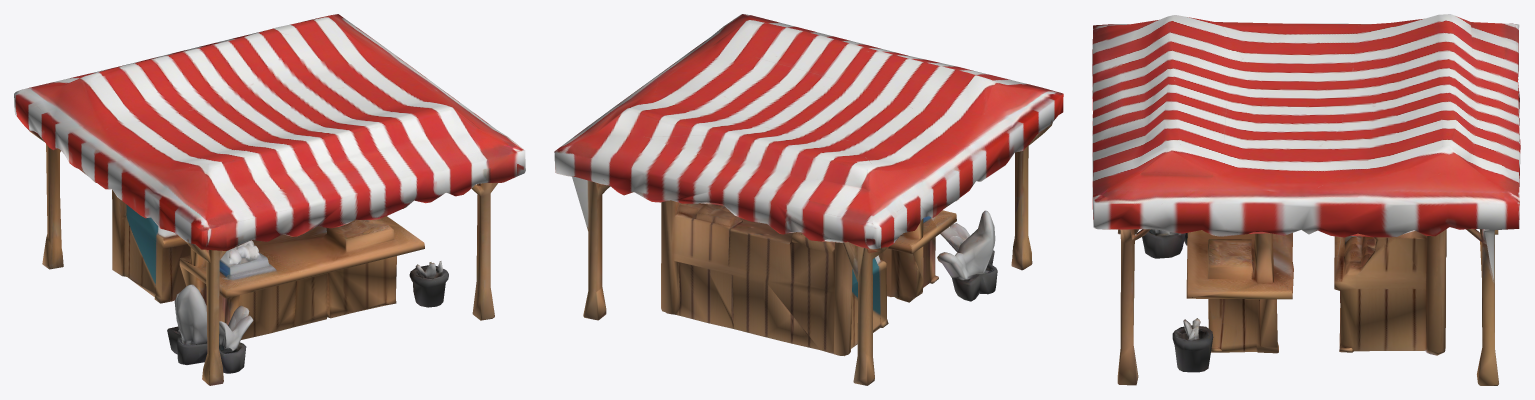
The model's file is market_stall.glb.
3 views of the same model, side by side, from view 1: azimuth 30°, elevation 25°; view 2: azimuth 150°, elevation 25°; view 3: azimuth 270°, elevation 25° (orthographic). The views are drawn at different scales.
Size of the model in its own units: 2 by 1.19 by 2.
Materials: 1 (1 with a texture image).
